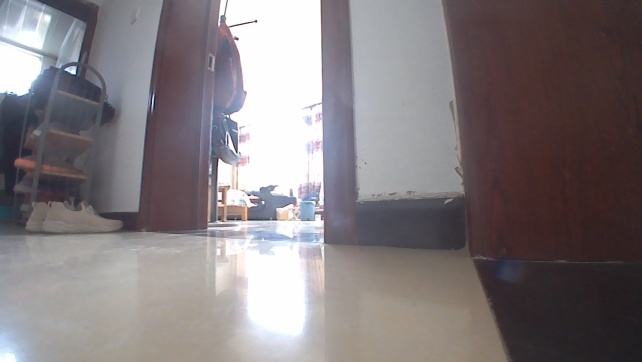shoe: (40, 196, 127, 236)
